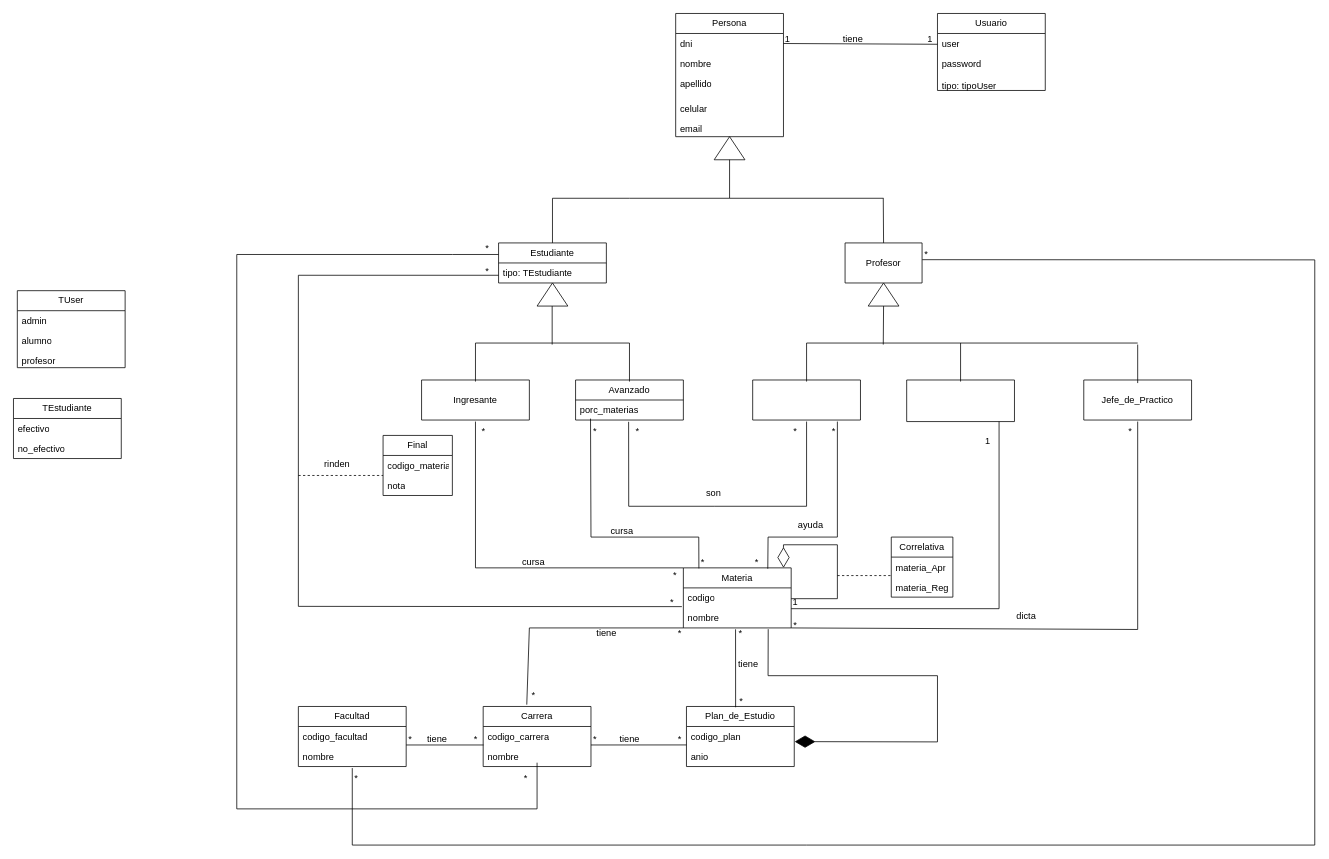
The diagram is 1329 pixels wide and 859 high, and some of its shapes have lost their labels. The centre of each missing label's shape, as x and y in pixels:
Ayudante: point 806,399
Responsable: point 960,400
